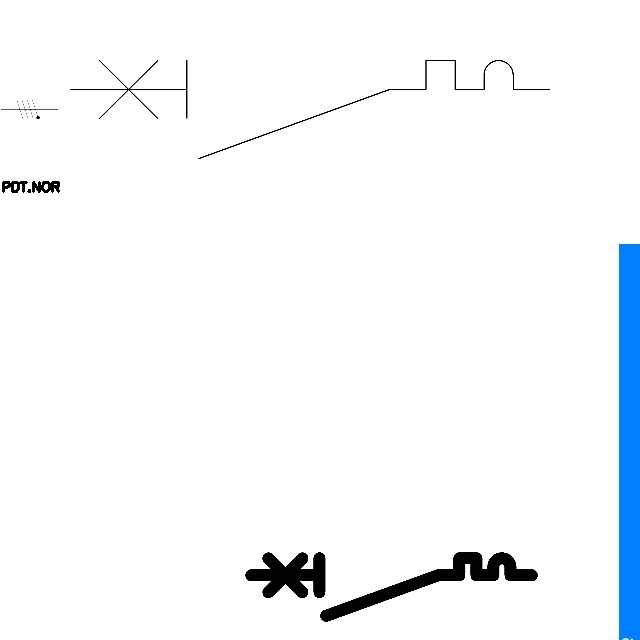interruptor_termomagnetico: (58, 48, 562, 171), (244, 551, 539, 623)
